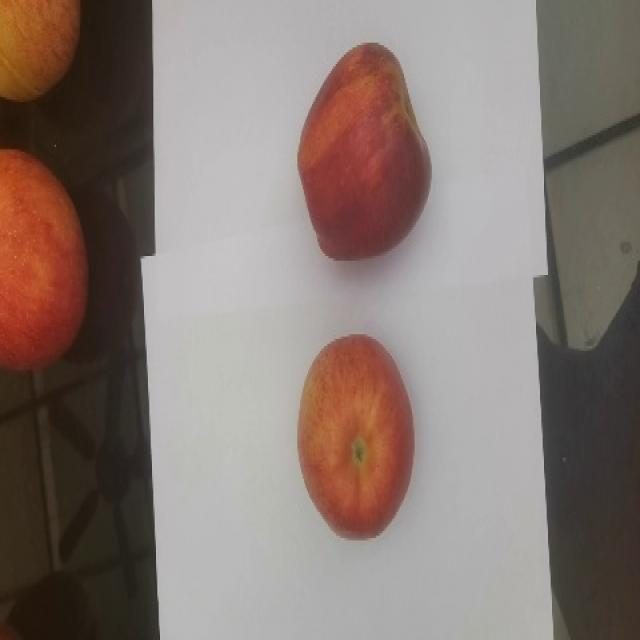Apple: (293, 39, 440, 266), (292, 335, 421, 541), (0, 142, 95, 380), (0, 0, 80, 103)
